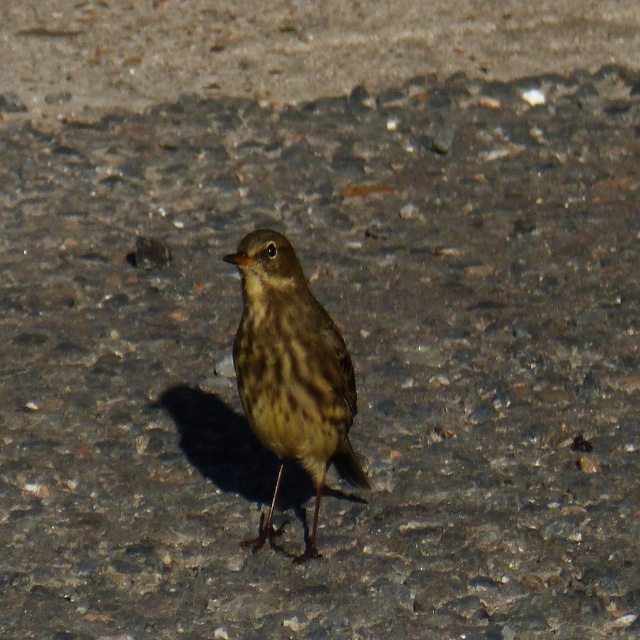Sparrow: (226, 219, 362, 585)
